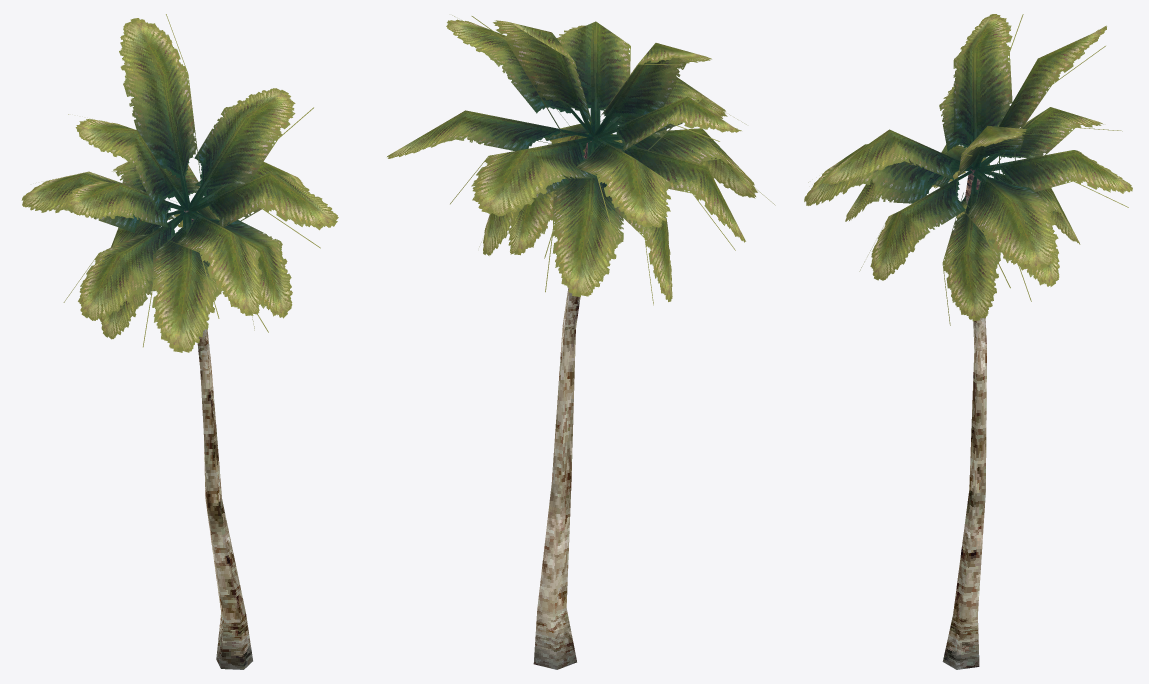
The model's file is stage-beac-p2-91.glb.
3 views of the same model, side by side, from view 1: azimuth 30°, elevation 25°; view 2: azimuth 150°, elevation 25°; view 3: azimuth 270°, elevation 25° (orthographic). The views are drawn at different scales.
Bounding box in the file's own units: 9.99 × 20.56 × 9.94.
1 material, 1 textured.
